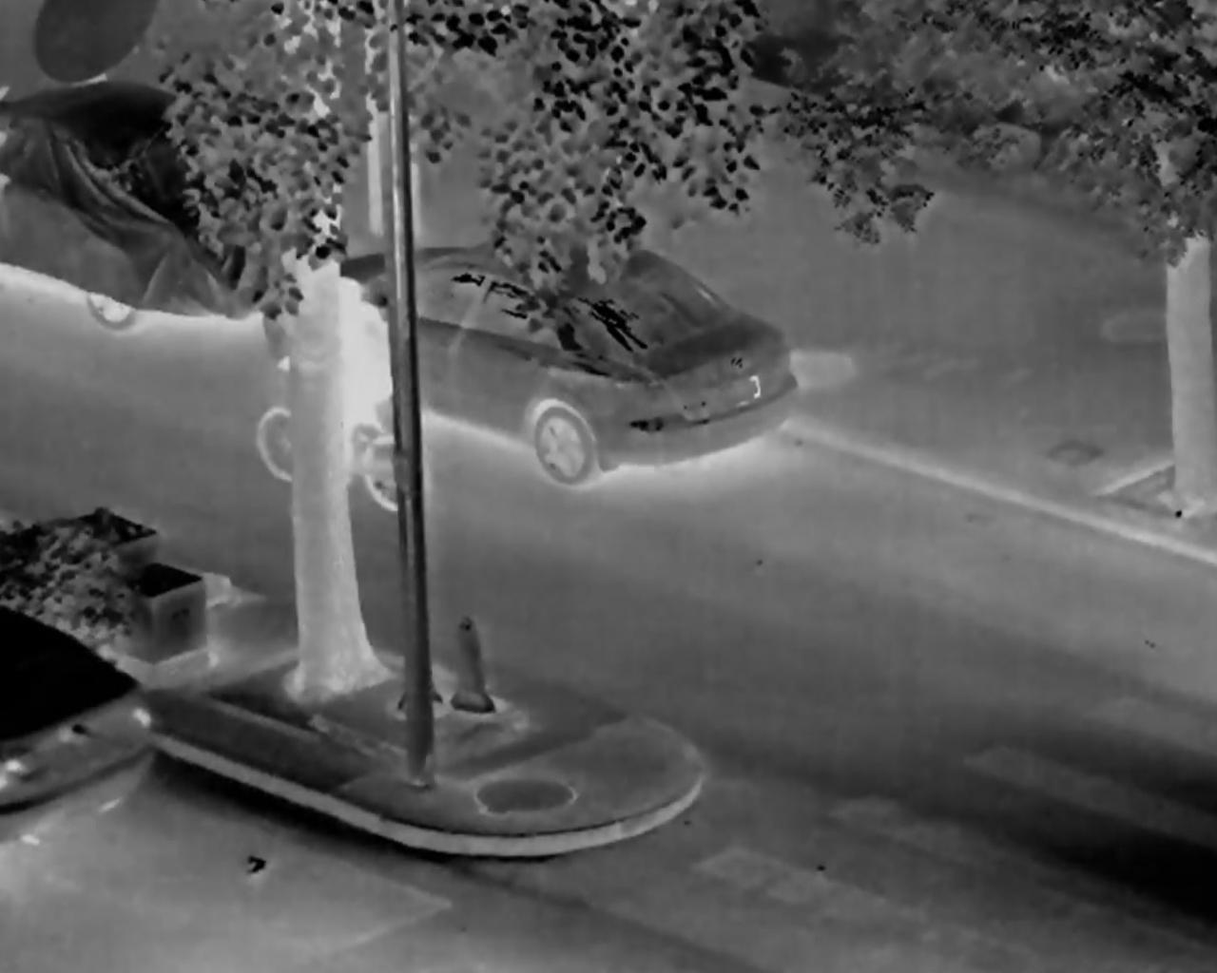person: (279, 277, 393, 480)
